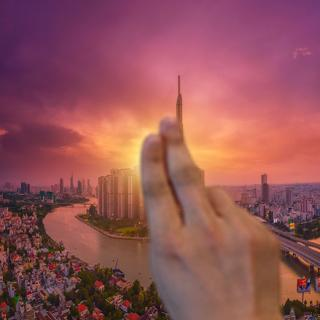DHAVE: (129, 108, 287, 320)
